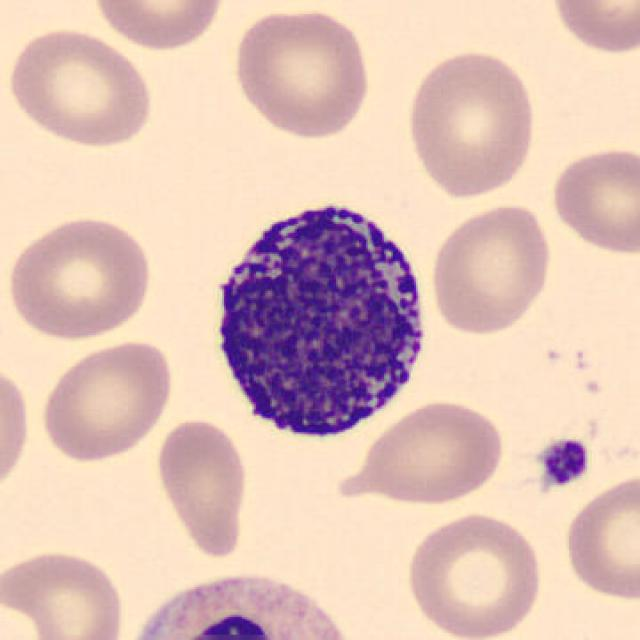Basophil: (197, 185, 439, 450)
Monocyte: (107, 557, 375, 640)
Neutrophil: (101, 557, 370, 640)
Platelets: (533, 434, 594, 490)
RBC: (402, 46, 540, 201), (228, 3, 375, 143), (332, 395, 510, 508), (3, 212, 156, 342), (402, 506, 548, 640), (4, 23, 158, 150), (36, 336, 176, 464), (426, 199, 554, 339), (151, 414, 253, 562), (0, 545, 128, 640), (560, 469, 638, 605), (548, 141, 638, 257), (87, 0, 229, 53), (546, 0, 636, 58), (0, 358, 34, 501)
